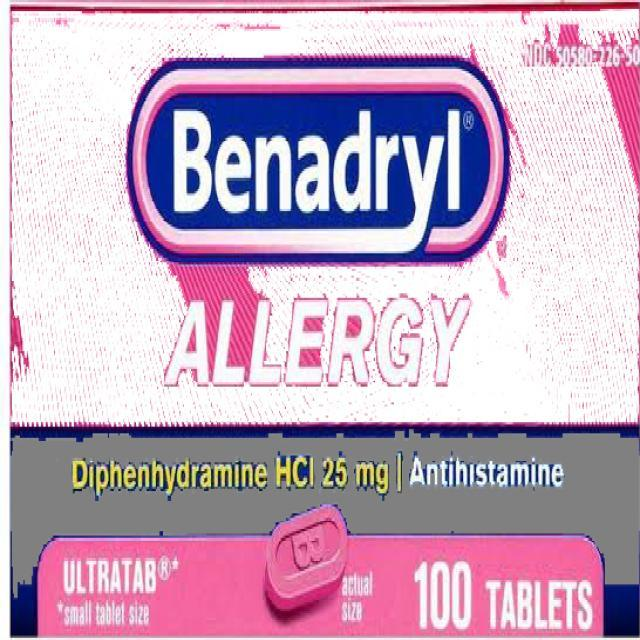drug-name: (159, 94, 476, 230)
